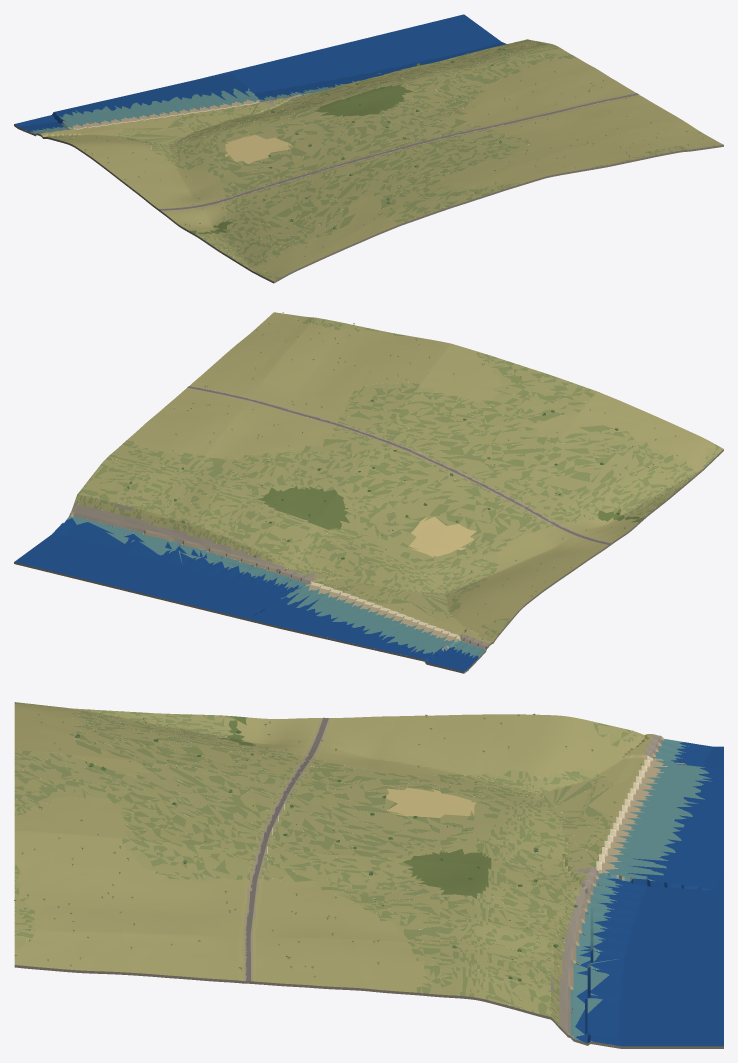
File: parca_+4_+2-yakin.glb
3 views of the same model, one above another, from view 1: azimuth 30°, elevation 25°; view 2: azimuth 150°, elevation 25°; view 3: azimuth 270°, elevation 25° (orthographic). The views are drawn at different scales.
Visible parts, largest first — view 1: parca_+4_+2_arazi, parca_+4_+2_yollar, parca_+4_+2_bitkiler; view 2: parca_+4_+2_arazi, parca_+4_+2_yollar, parca_+4_+2_bitkiler; view 3: parca_+4_+2_arazi, parca_+4_+2_yollar, parca_+4_+2_bitkiler.
Boxes of the visible parts, box(x1,y1,x2,y2) form: parca_+4_+2_arazi: box(14, 14, 723, 283); parca_+4_+2_yollar: box(159, 93, 638, 210); parca_+4_+2_bitkiler: box(50, 48, 714, 272); parca_+4_+2_arazi: box(14, 312, 723, 673); parca_+4_+2_yollar: box(187, 386, 610, 544); parca_+4_+2_bitkiler: box(126, 312, 677, 639); parca_+4_+2_arazi: box(14, 702, 723, 1048); parca_+4_+2_yollar: box(245, 717, 328, 981); parca_+4_+2_bitkiler: box(14, 706, 648, 986).
Size of the model in its own units: 1001 by 156 by 1001.
